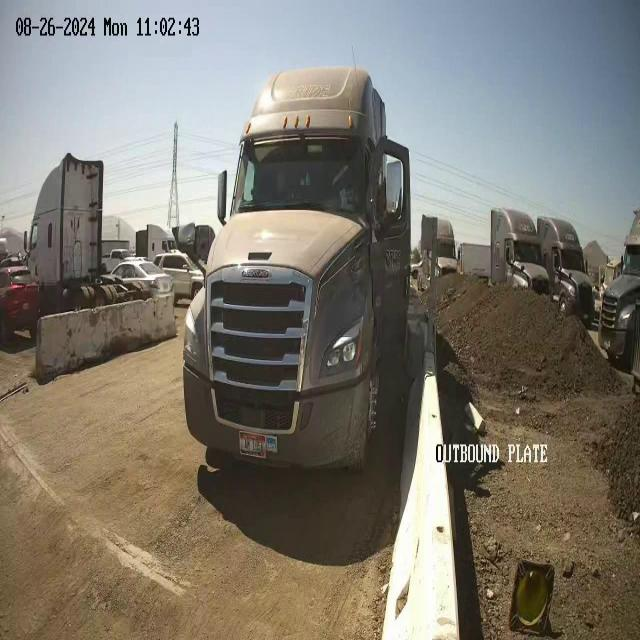TRUCK_OUT: (182, 58, 414, 478)
